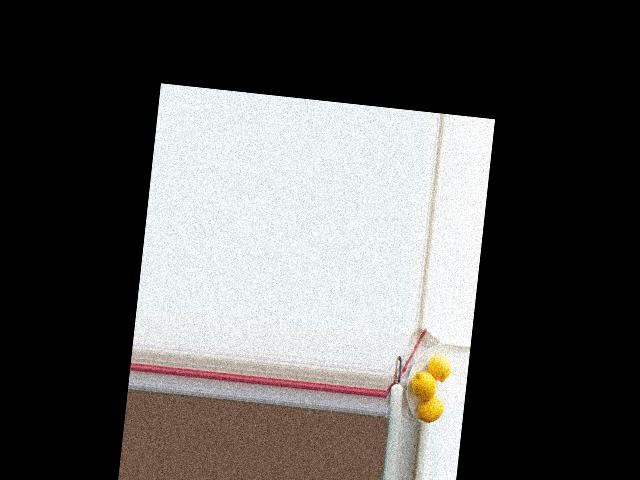lemon: (418, 394, 445, 426)
